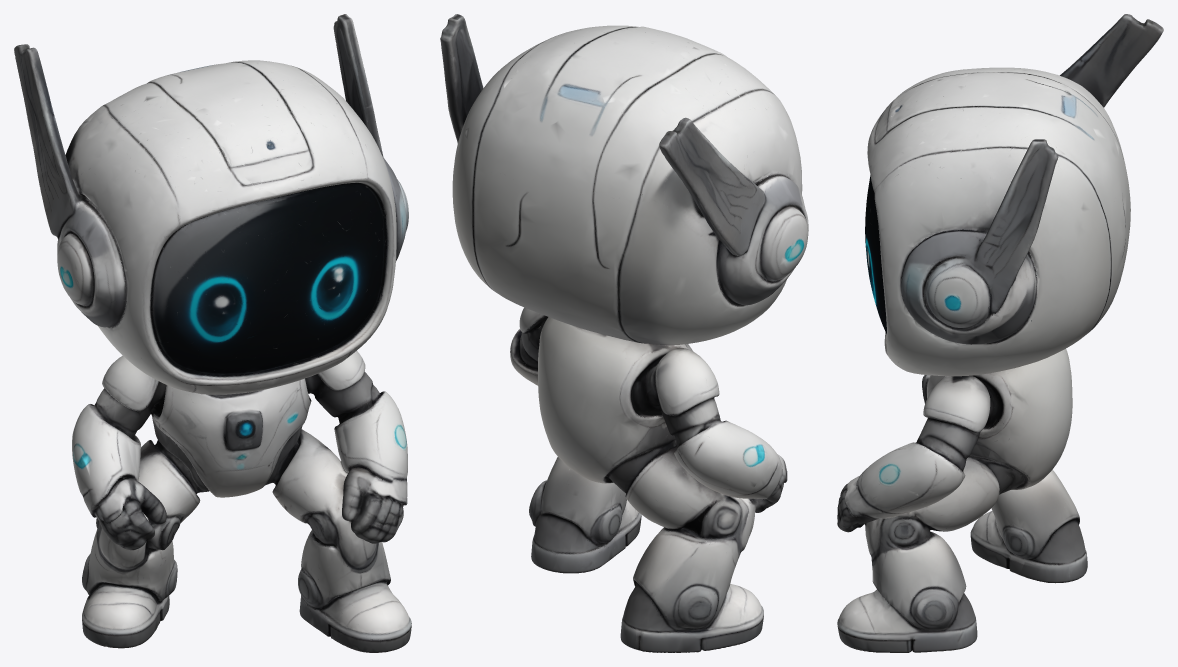
Rendered from robot_accroupi-v1.glb.
The picture shows the model from 3 angles, left to right: view 1: azimuth 30°, elevation 25°; view 2: azimuth 150°, elevation 25°; view 3: azimuth 270°, elevation 25°; orthographic projection. The views are drawn at different scales.
Parts seen in each view (by area): view 1: geometry_0; view 2: geometry_0; view 3: geometry_0.
Boxes of the visible parts, <box> form: geometry_0: <box>14,14,411,652</box>; geometry_0: <box>440,14,808,652</box>; geometry_0: <box>837,14,1163,652</box>.
Size of the model in its own units: 0.6144 by 1 by 0.5636.
1 material, 1 textured.
